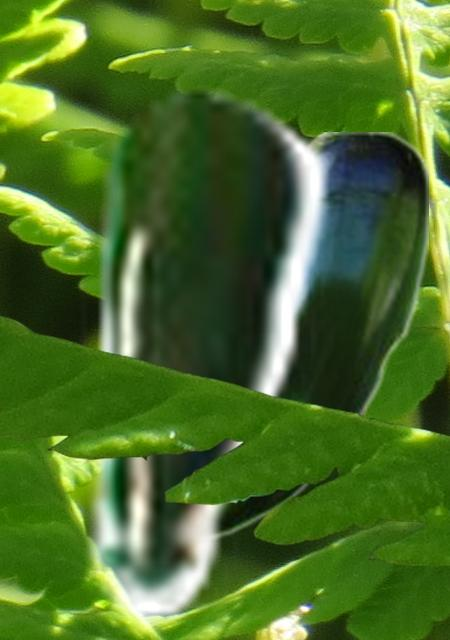green_chili: (73, 82, 332, 624), (223, 132, 427, 541)
